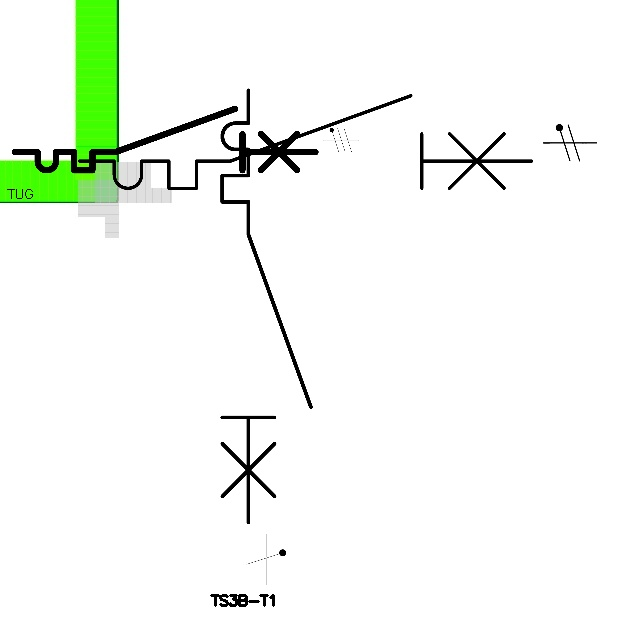interruptor_termomagnetico: (68, 84, 543, 200), (211, 79, 322, 533), (7, 101, 323, 178)
